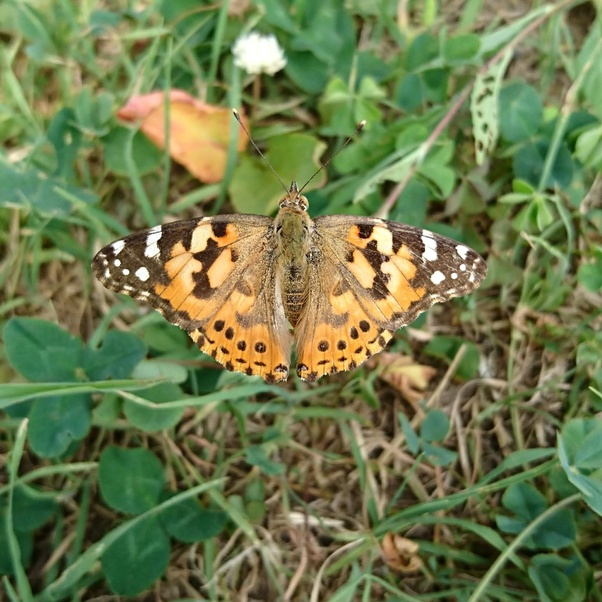Argyreus hyperbius: (78, 103, 487, 389)
butterfly: (80, 105, 489, 391)
